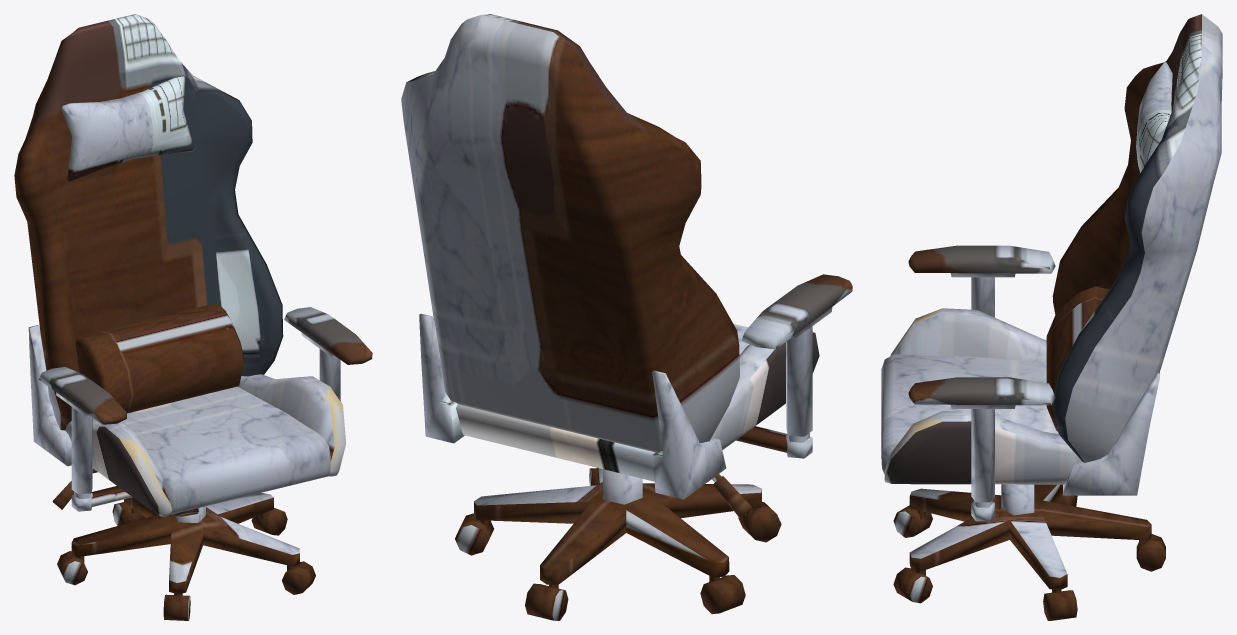
The model's file is chair.fbx.
3 views of the same model, side by side, from view 1: azimuth 30°, elevation 25°; view 2: azimuth 150°, elevation 25°; view 3: azimuth 270°, elevation 25° (orthographic). The views are drawn at different scales.
Parts seen in each view (by area): view 1: armrest01_low__mReBody; view 2: armrest01_low__mReBody; view 3: armrest01_low__mReBody.
Boxes of the visible parts, x1,y1,x2,y2 form: armrest01_low__mReBody: [14, 14, 372, 620]; armrest01_low__mReBody: [401, 14, 852, 620]; armrest01_low__mReBody: [881, 14, 1222, 620].
Size of the model in its own units: 96.91 by 164 by 94.36.
